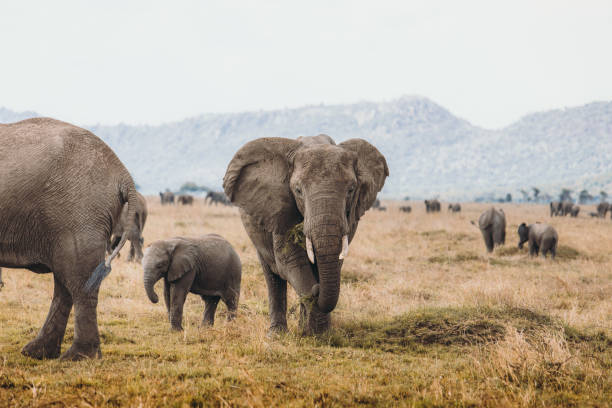africanelephant: (278, 140, 364, 284)
